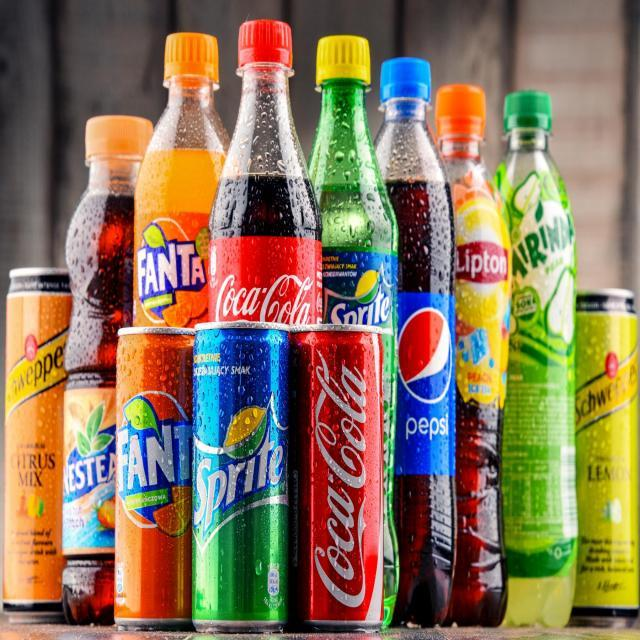Coke: (212, 13, 324, 602), (373, 53, 461, 613), (288, 318, 385, 628)
